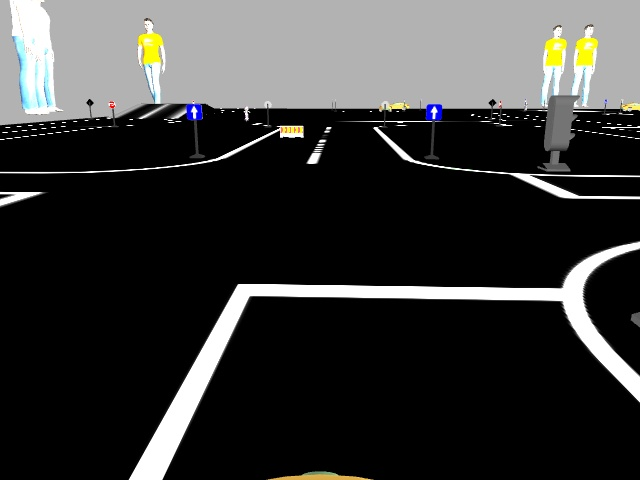ClosedRoadStand: (278, 125, 303, 138)
OneWay: (184, 106, 202, 122), (424, 105, 442, 118)
